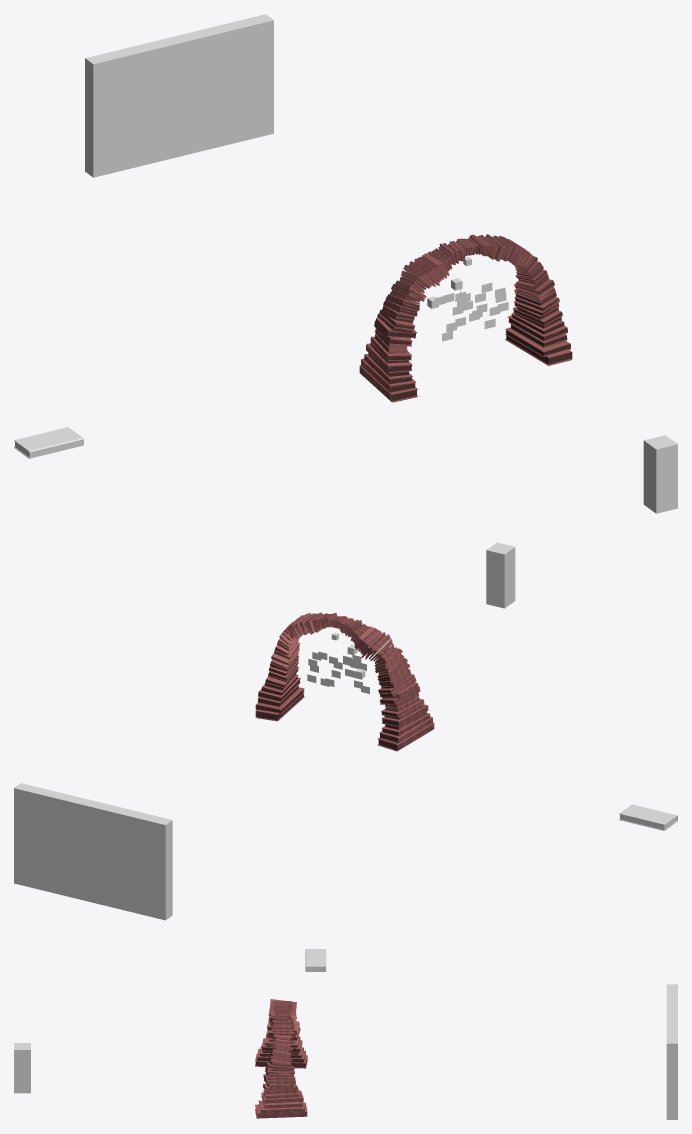
3 renders of one model, top to bottom at view 1: azimuth 30°, elevation 25°; view 2: azimuth 150°, elevation 25°; view 3: azimuth 270°, elevation 25°, orthographic. The views are drawn at different scales.
Visible parts, largest first — view 1: Cube, Cube.001, Cylinder; view 2: Cube, Cube.001, Cylinder; view 3: Cube, Cube.001, Cylinder, Cylinder.322, Cylinder.323.
Part boxes in pixels (<box>): Cube: <box>85,14,273,177</box>; Cube.001: <box>643,435,677,513</box>; Cylinder: <box>14,427,83,458</box>; Cube: <box>14,783,172,920</box>; Cube.001: <box>486,542,515,608</box>; Cylinder: <box>619,804,677,830</box>; Cube: <box>666,984,677,1119</box>; Cube.001: <box>14,1043,30,1093</box>; Cylinder: <box>305,949,326,971</box>; Cylinder.322: <box>255,1102,307,1118</box>; Cylinder.323: <box>258,1100,304,1113</box>.
Size of the model in its own units: 14.2 by 3.39 by 23.66.
Materials: 4 (2 with a texture image).
